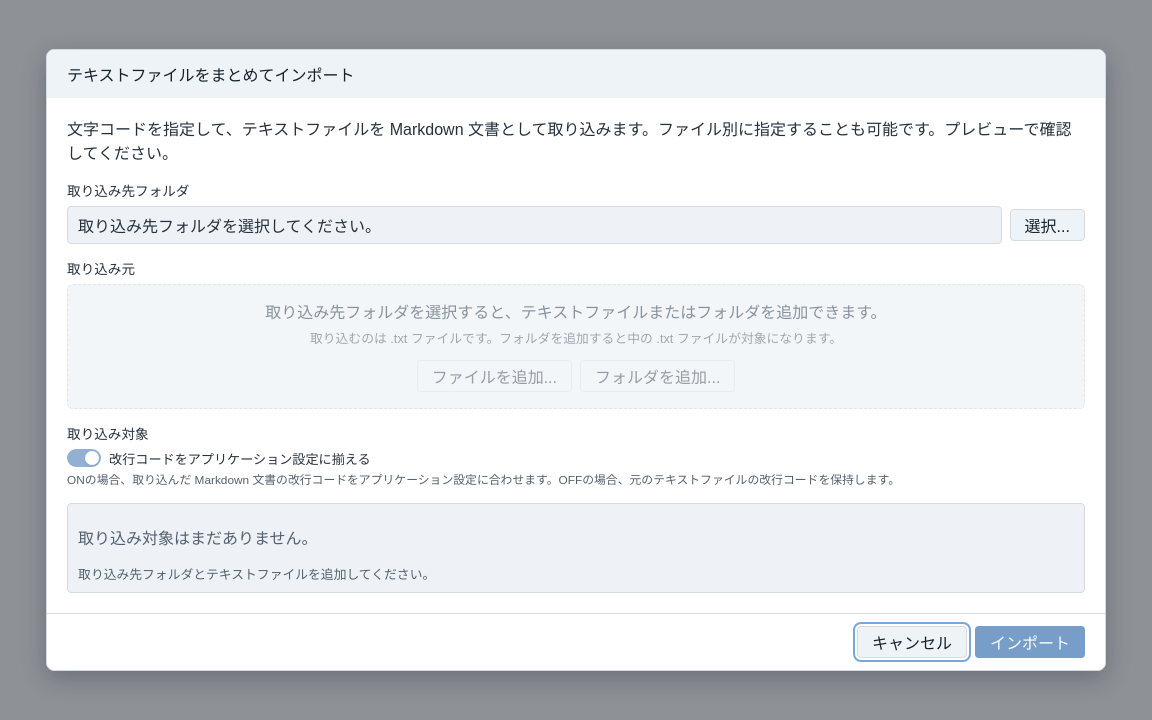
Test: BulkTextImportDialog (#420 Step 3 + 4) › lists project folders in the destination picker and stores the chosen path
Click the button with class "bulkTextImportDialogSelectDestinationButton" at (1047, 225), box [1010,209,1085,241]
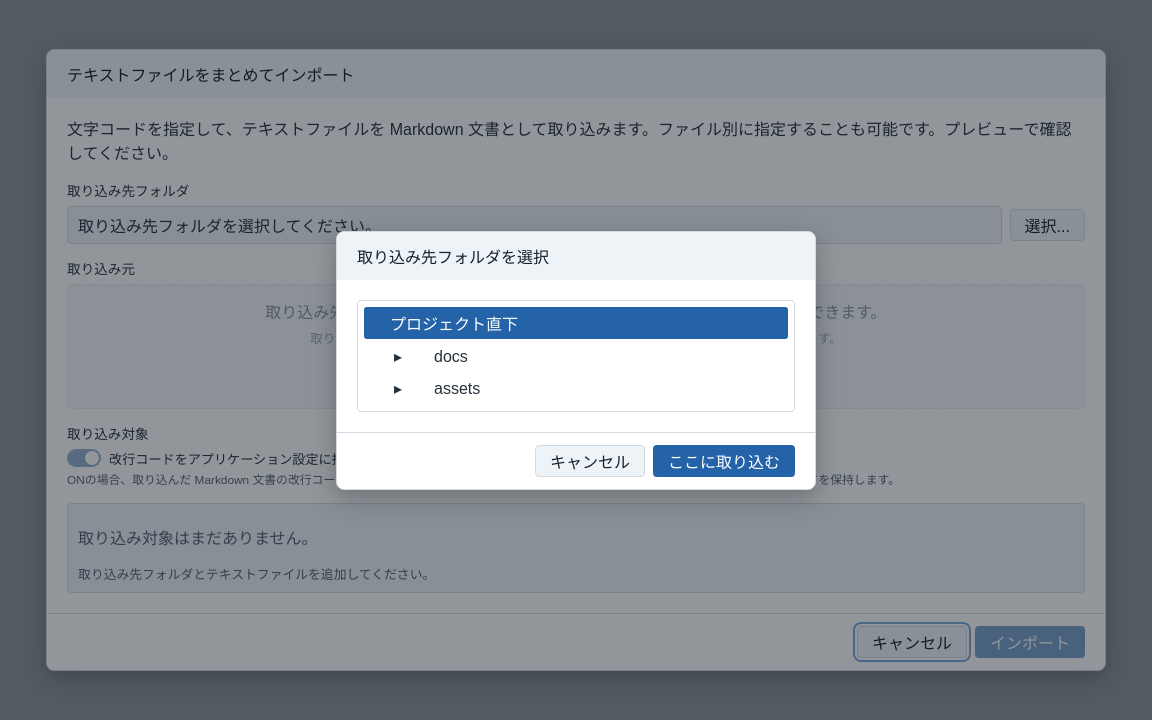
Now the dialog with class "textImportDestinationPickerDialog" is shown, box [336,230,816,490]
Click the radio button with class "textImportDestinationPickerName" showing "docs" at (451, 356), box [428,340,788,372]
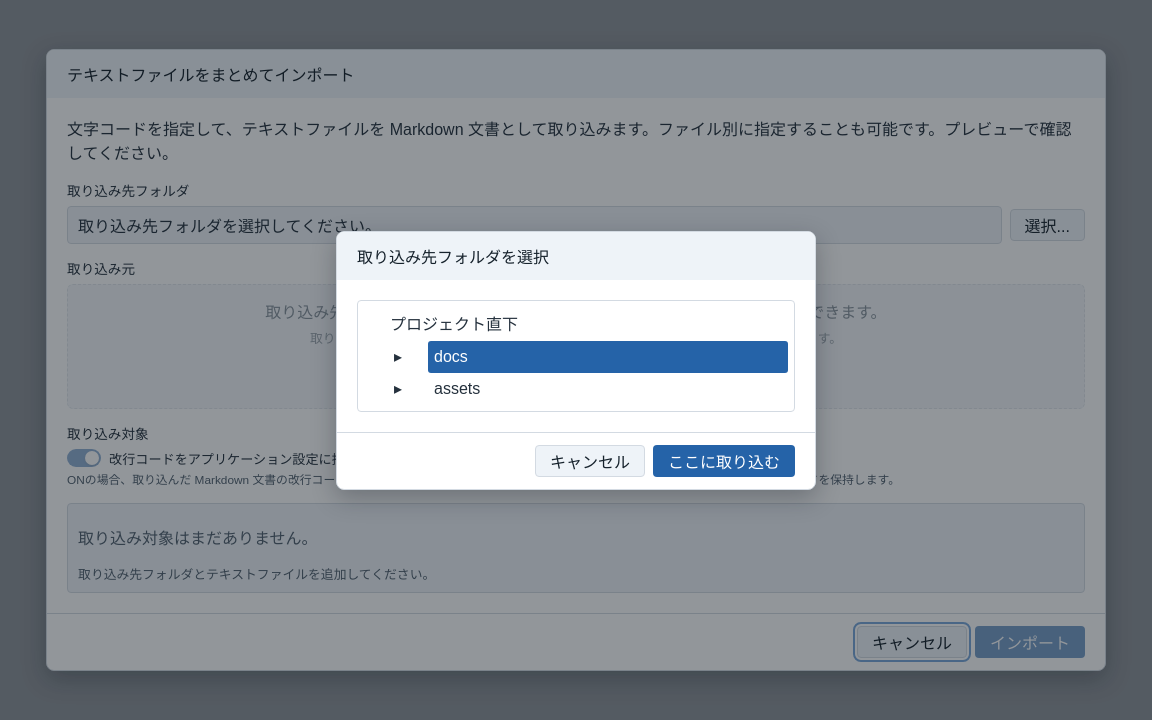
Click the button with class "textImportDestinationPickerConfirm" at (724, 460), box [653,444,795,476]
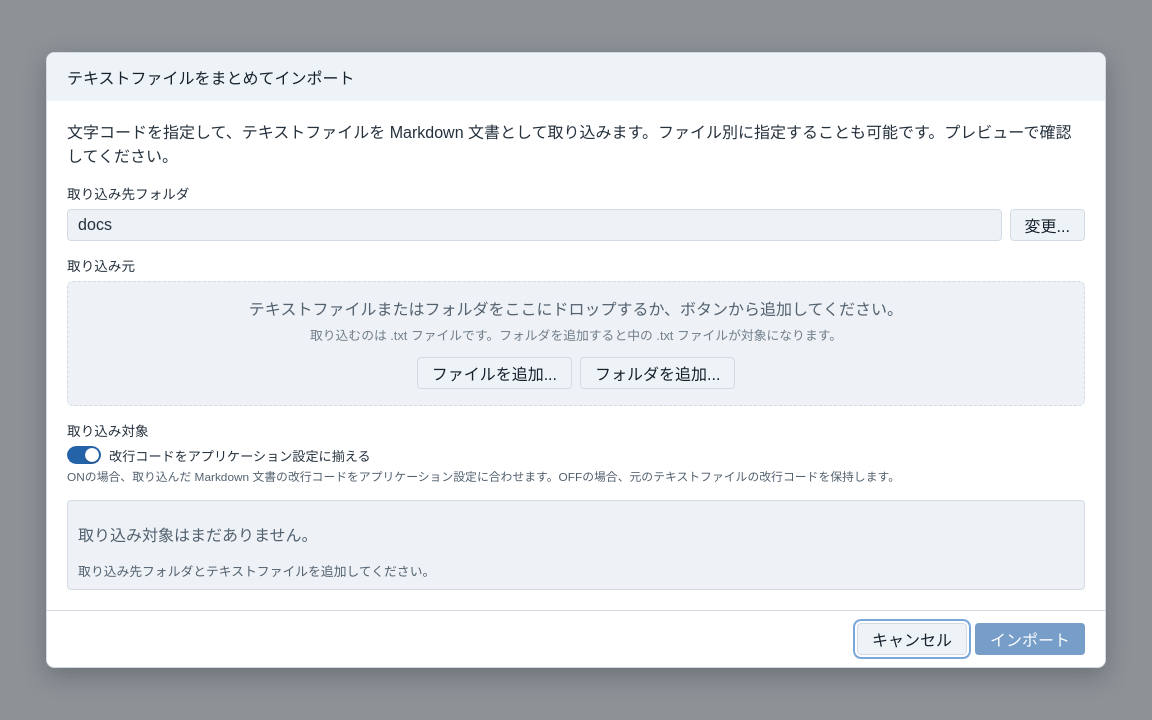
Now the dialog with class "textImportDestinationPickerDialog" is gone
Now the text with test id "bulkTextImportDestinationValue" reads "docs", box [78,216,112,233]
